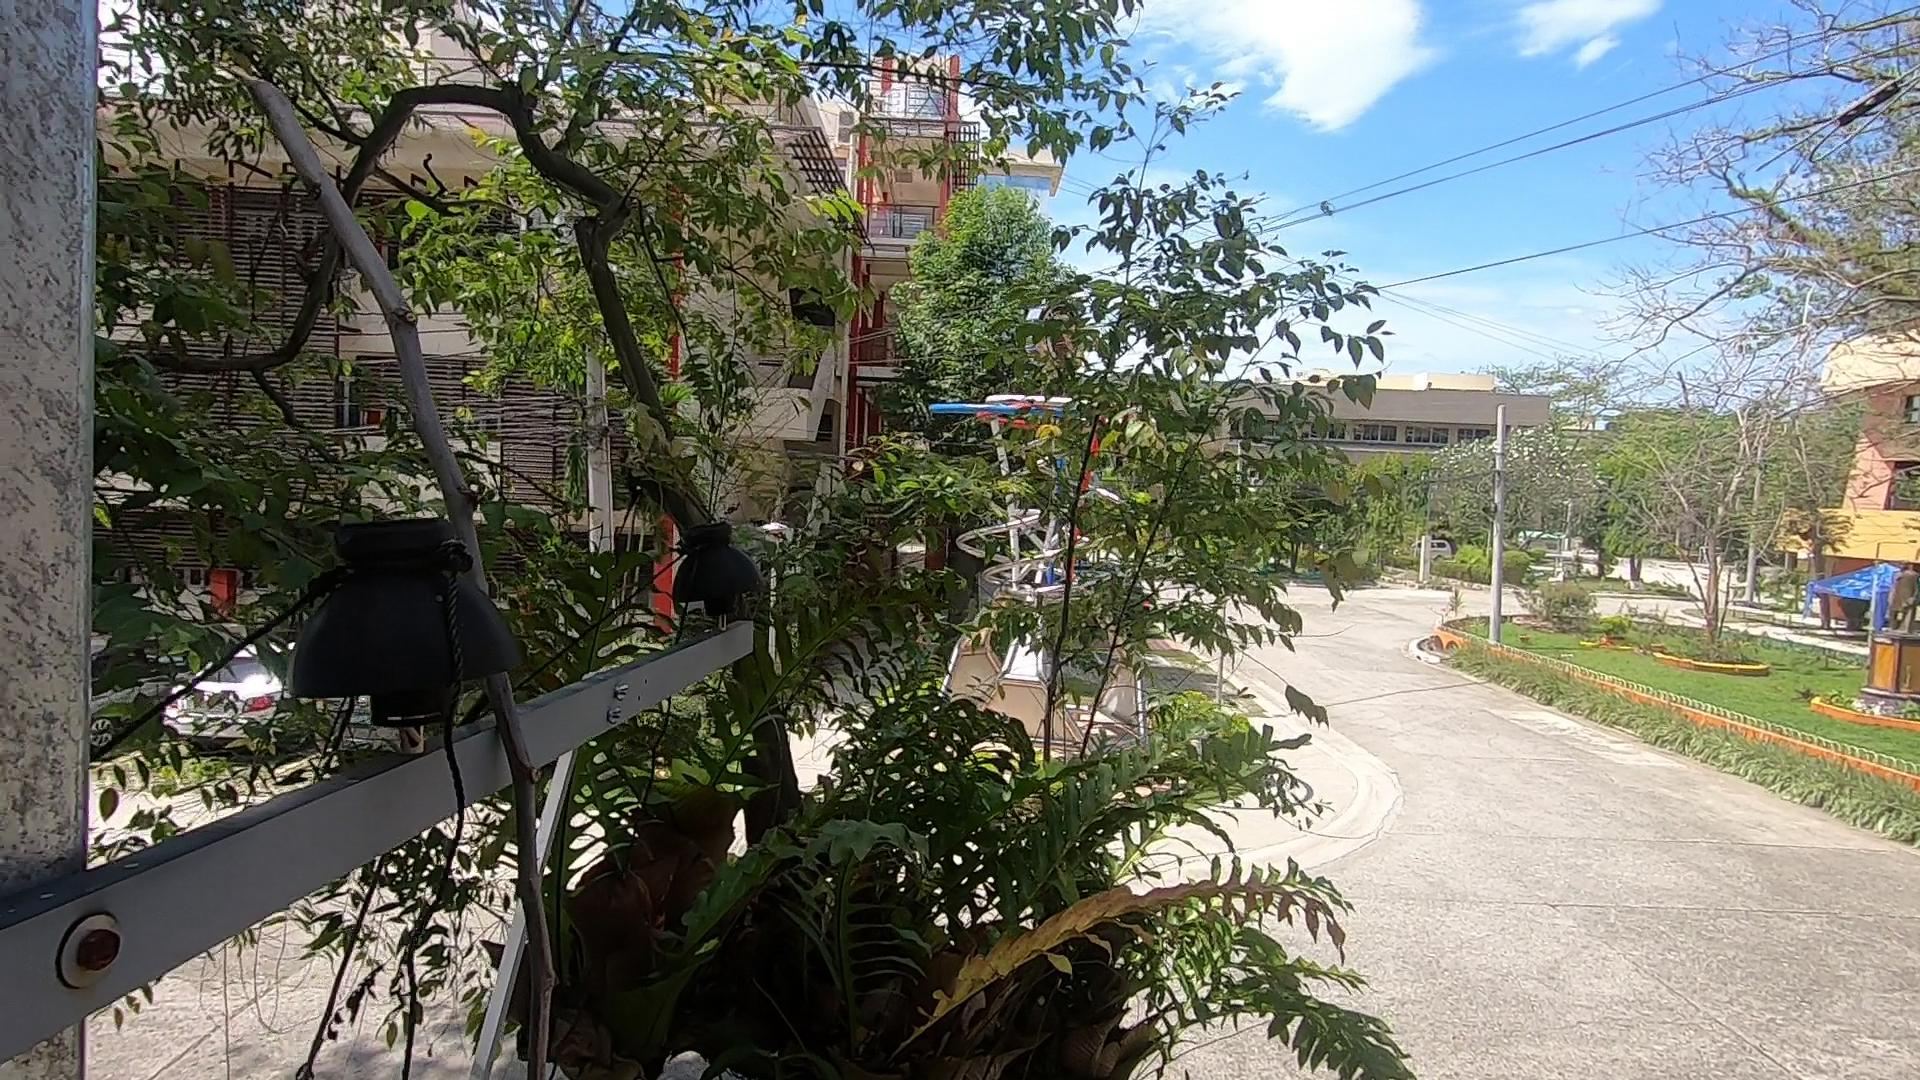tree branch: (194, 44, 665, 1077)
